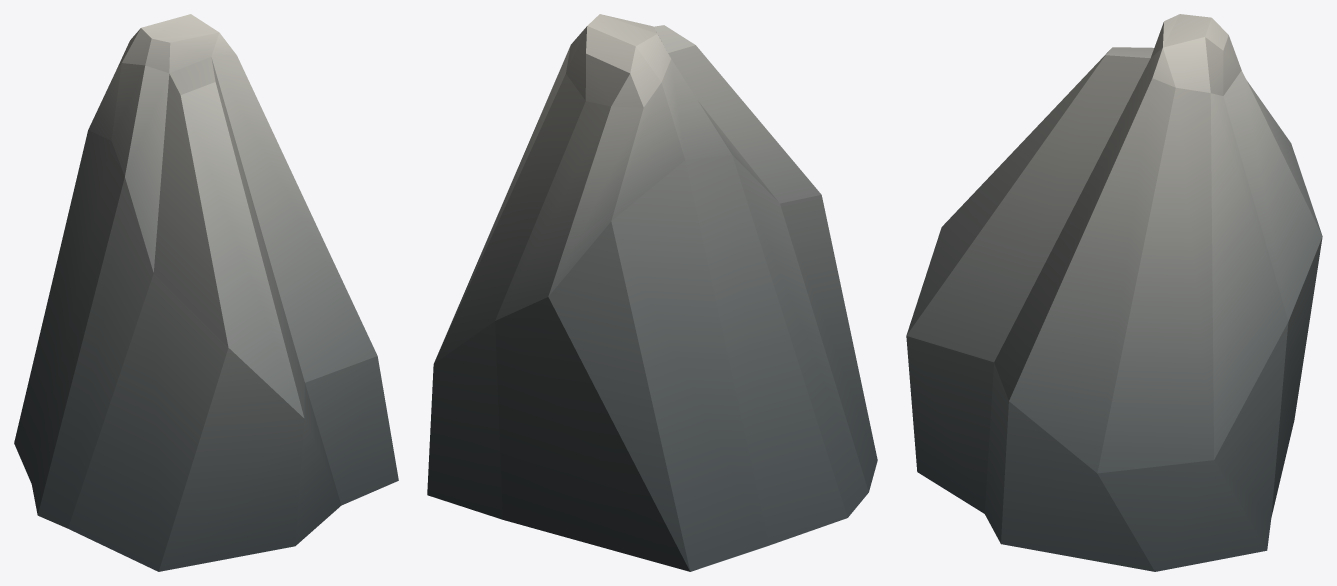
Rendered from Rock_Medium_E.fbx.
3 views of the same model, side by side, from view 1: azimuth 30°, elevation 25°; view 2: azimuth 150°, elevation 25°; view 3: azimuth 270°, elevation 25° (orthographic). The views are drawn at different scales.
Visible parts, largest first — view 1: Rock_Medium_E; view 2: Rock_Medium_E; view 3: Rock_Medium_E.
Part boxes in pixels (<box>): Rock_Medium_E: <box>14,14,398,571</box>; Rock_Medium_E: <box>427,14,877,571</box>; Rock_Medium_E: <box>906,14,1322,571</box>.
Bounding box in the file's own units: 300 × 365 × 296.
